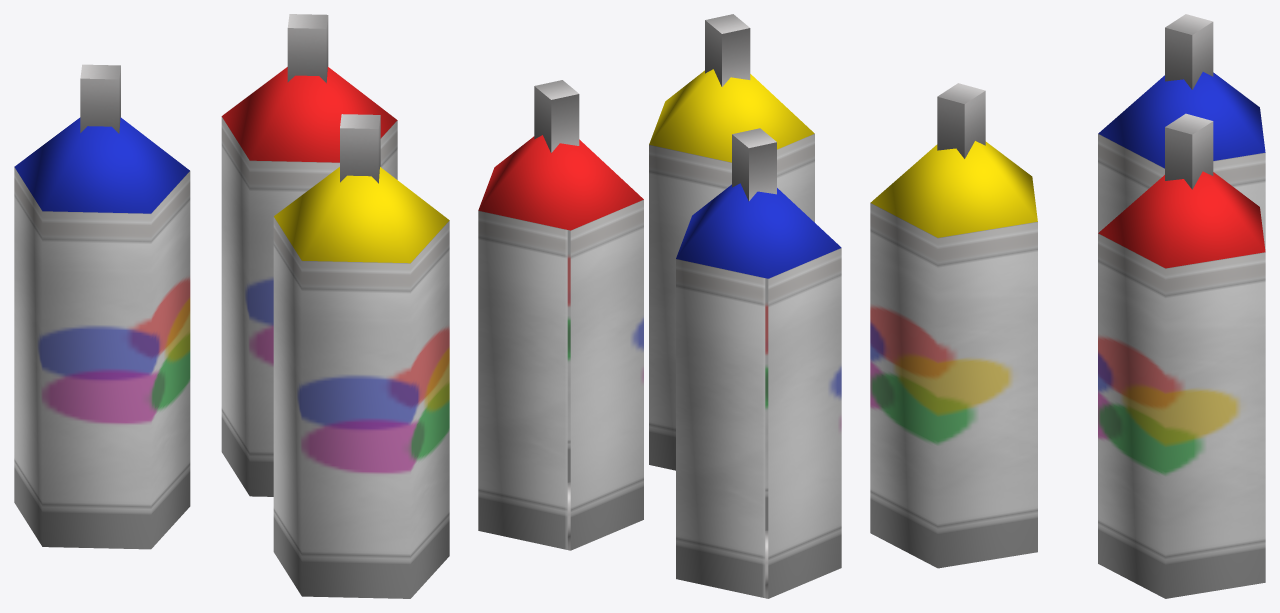
Rendered from SprayCans.fbx.
3 views of the same model, side by side, from view 1: azimuth 30°, elevation 25°; view 2: azimuth 150°, elevation 25°; view 3: azimuth 270°, elevation 25° (orthographic). The views are drawn at different scales.
Visible parts, largest first — view 1: SprayCans; view 2: SprayCans; view 3: SprayCans.
Boxes of the visible parts, bbox=[...] form: SprayCans: bbox=[14, 14, 449, 598]; SprayCans: bbox=[478, 14, 841, 598]; SprayCans: bbox=[870, 14, 1265, 598].
Bounding box in the file's own units: 0.2242 × 0.2648 × 0.2167.
